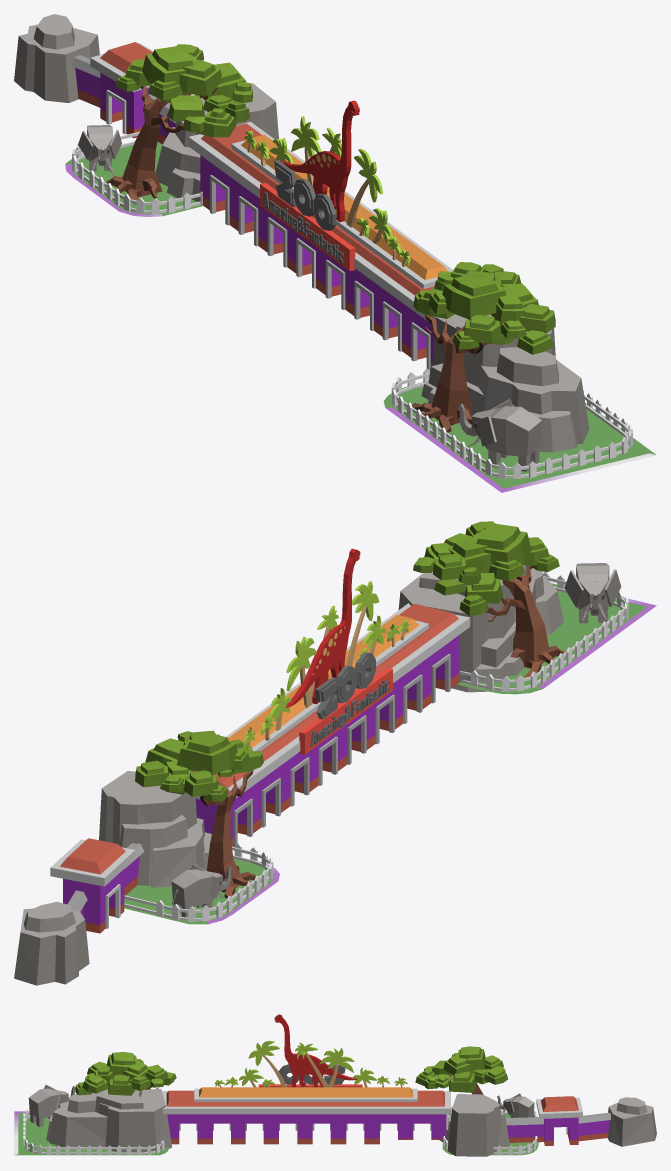
File: damen_02.FBX
3 views of the same model, one above another, from view 1: azimuth 30°, elevation 25°; view 2: azimuth 150°, elevation 25°; view 3: azimuth 270°, elevation 25° (orthographic). The views are drawn at different scales.
Parts seen in each view (by area): view 1: damen_02; view 2: damen_02; view 3: damen_02.
Boxes of the visible parts, x1,y1,x2,y2 form: damen_02: (14,14,656,492); damen_02: (14,521,656,985); damen_02: (14,1014,656,1156).
Size of the model in its own units: 3371 by 4262 by 19947.
